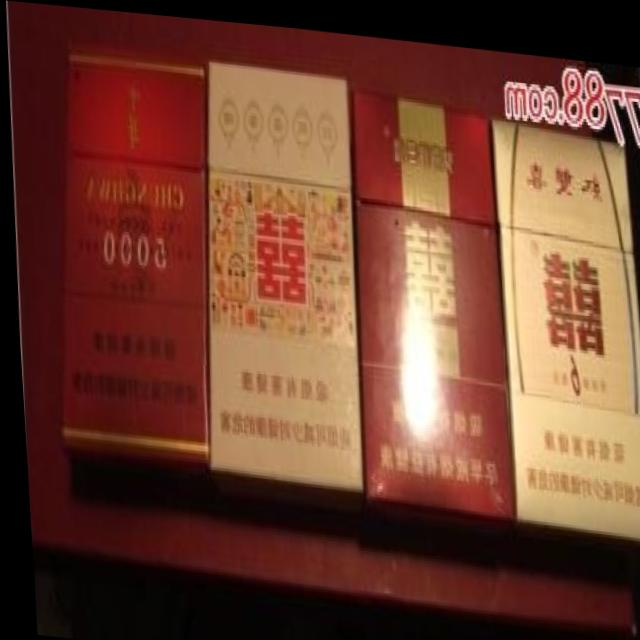box: (347, 85, 509, 511), (203, 57, 359, 486), (491, 107, 640, 529), (57, 50, 204, 459)
